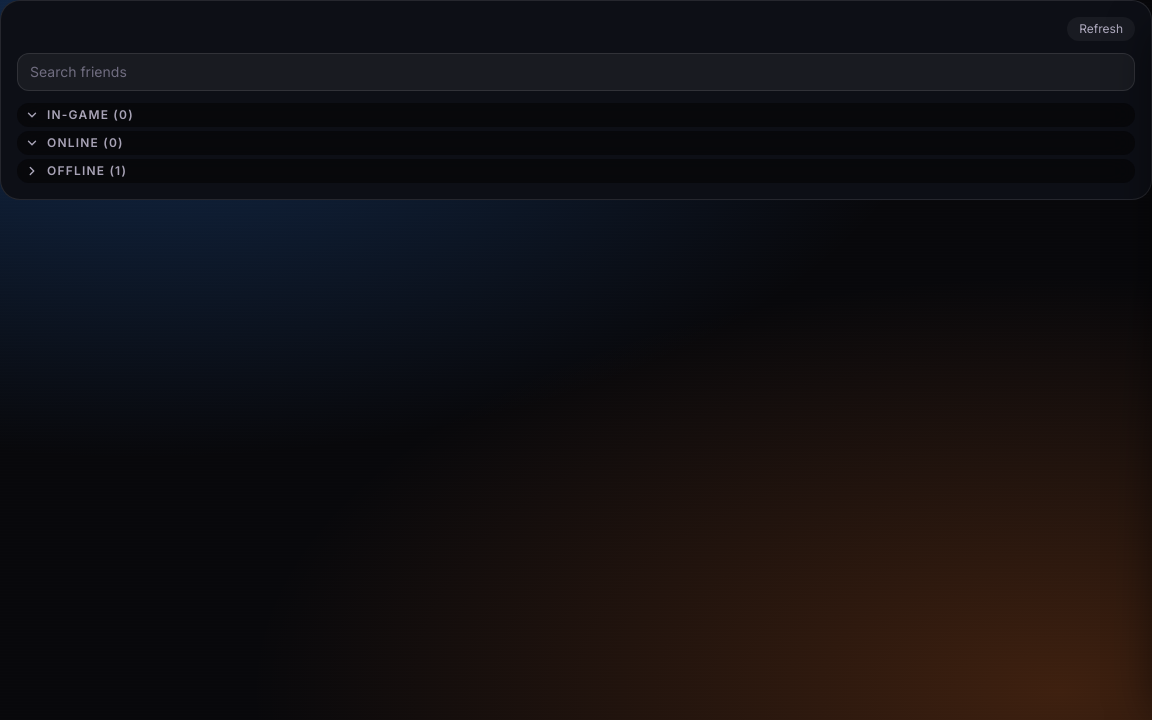
it: FriendsList presence sections — interaction (VRX-67) › clicking a section header expands it, shows its rows, and persists via updateSettings (marks dirty)
This screenshot has width=1152, height=720.
What coordinates should you click on to do the following:
click the button "Offline (1)"
I would click on:
 (87, 170)
Its box is [17, 159, 1135, 183].
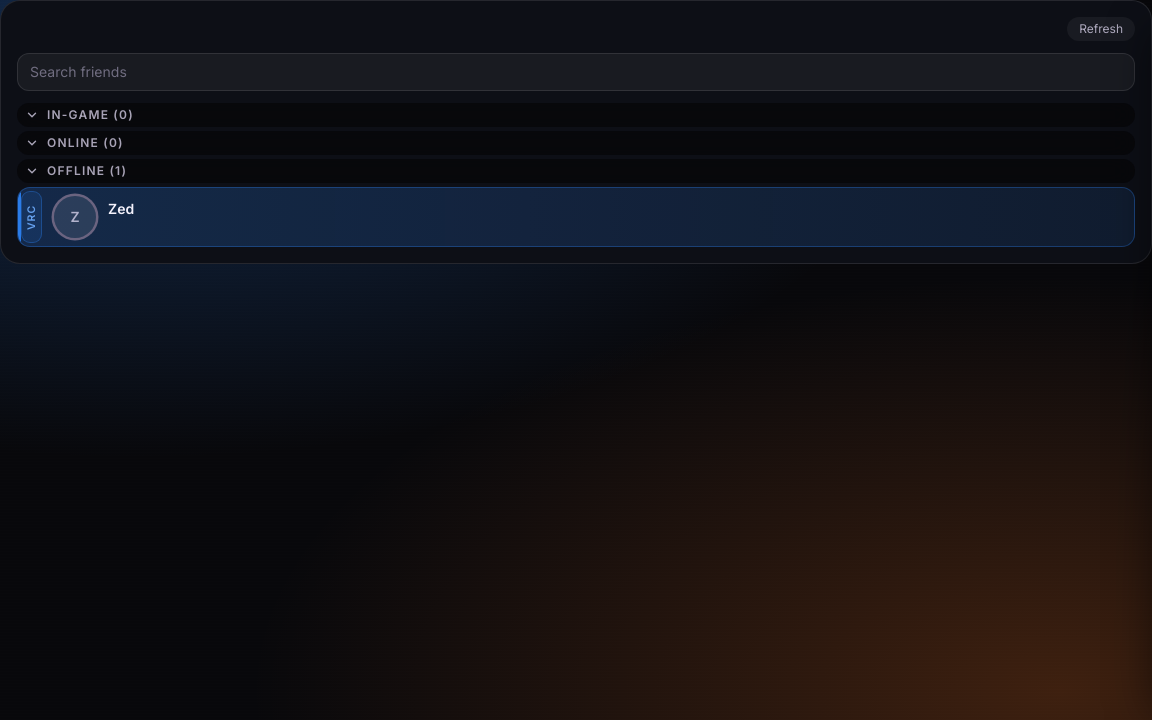
Expected: the button "Offline (1)" is expanded, [17, 159, 1135, 183]
Expected: the text "Zed" is shown, [108, 198, 134, 218]
